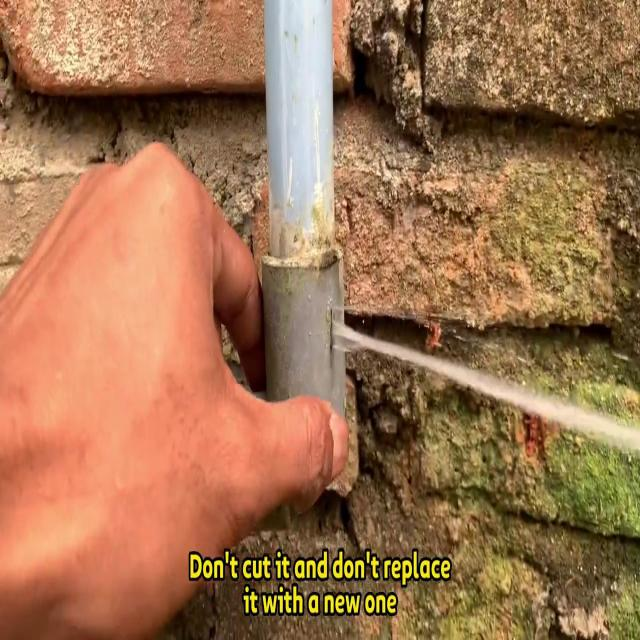leak: (332, 307, 640, 460)
